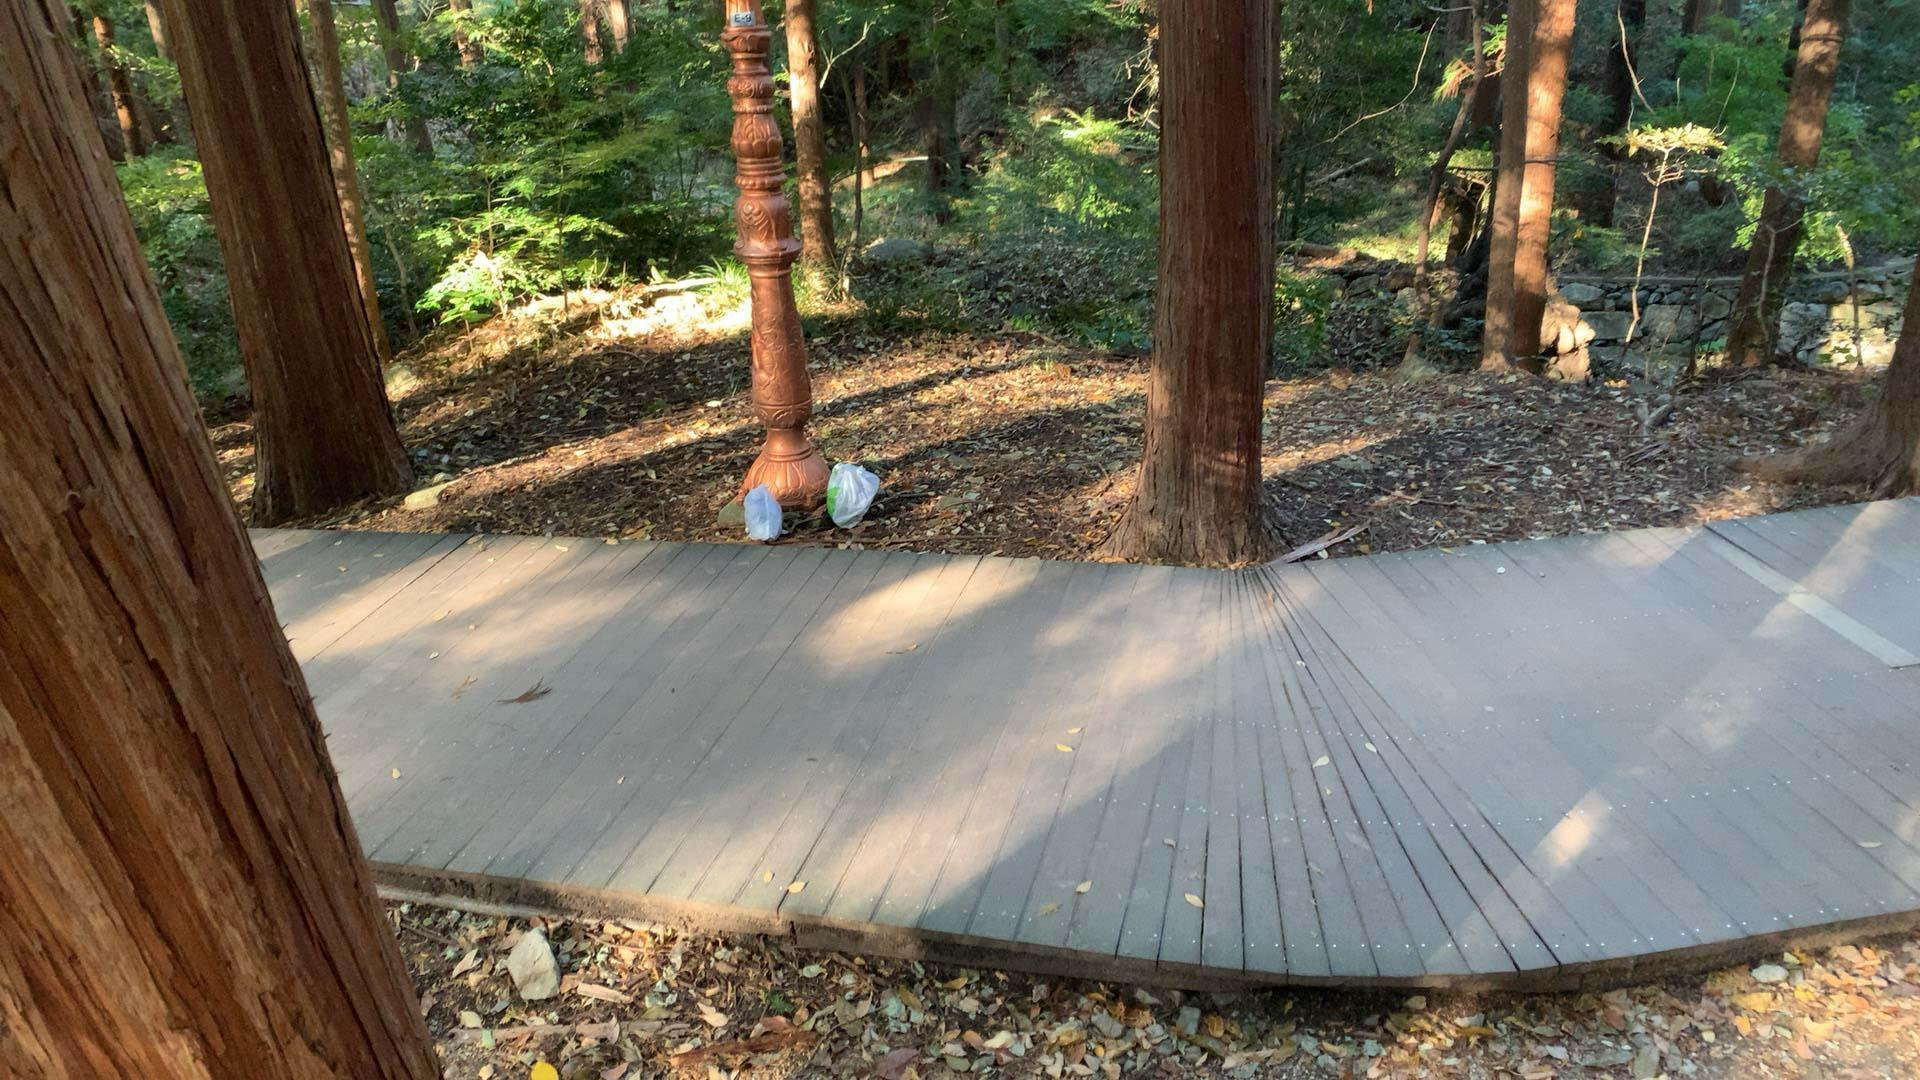white_bag: (820, 454, 885, 530), (740, 475, 787, 542)
